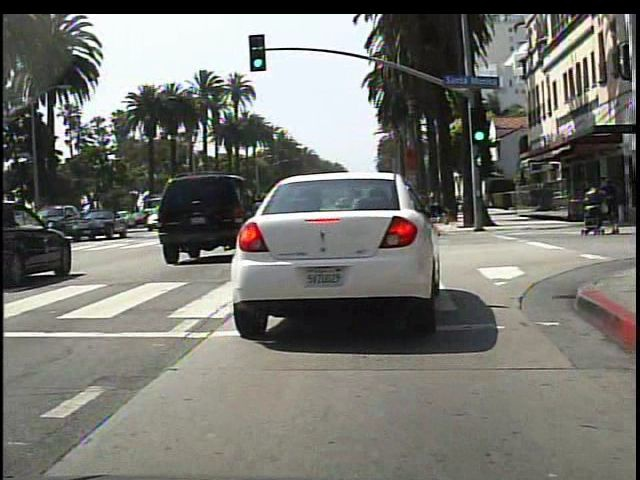person: (578, 162, 622, 241)
